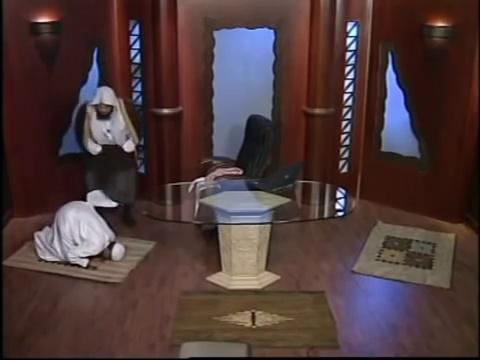sujud: (32, 200, 128, 272)
